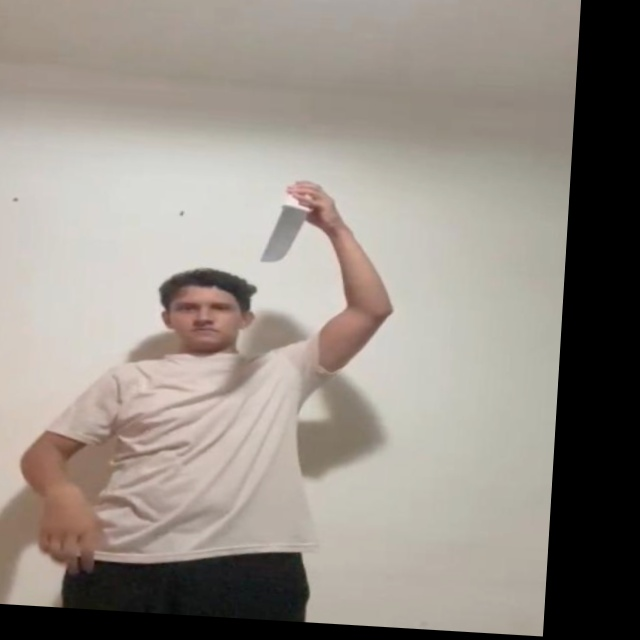Sharp-Object: (258, 208, 310, 263)
